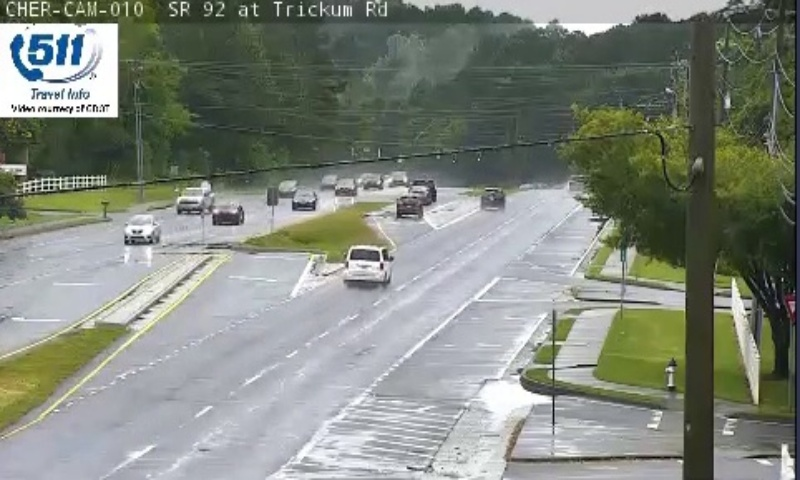car: (343, 245, 390, 281), (396, 194, 423, 218), (481, 185, 506, 209)
